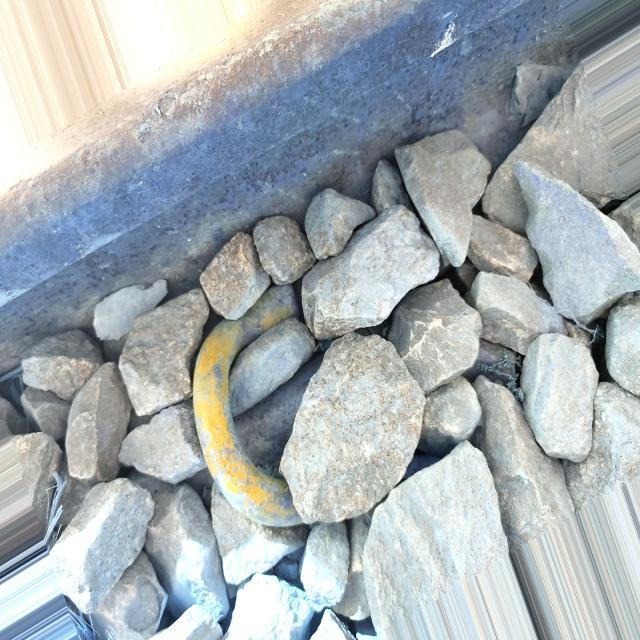Good Fasteners: (193, 284, 322, 526)
